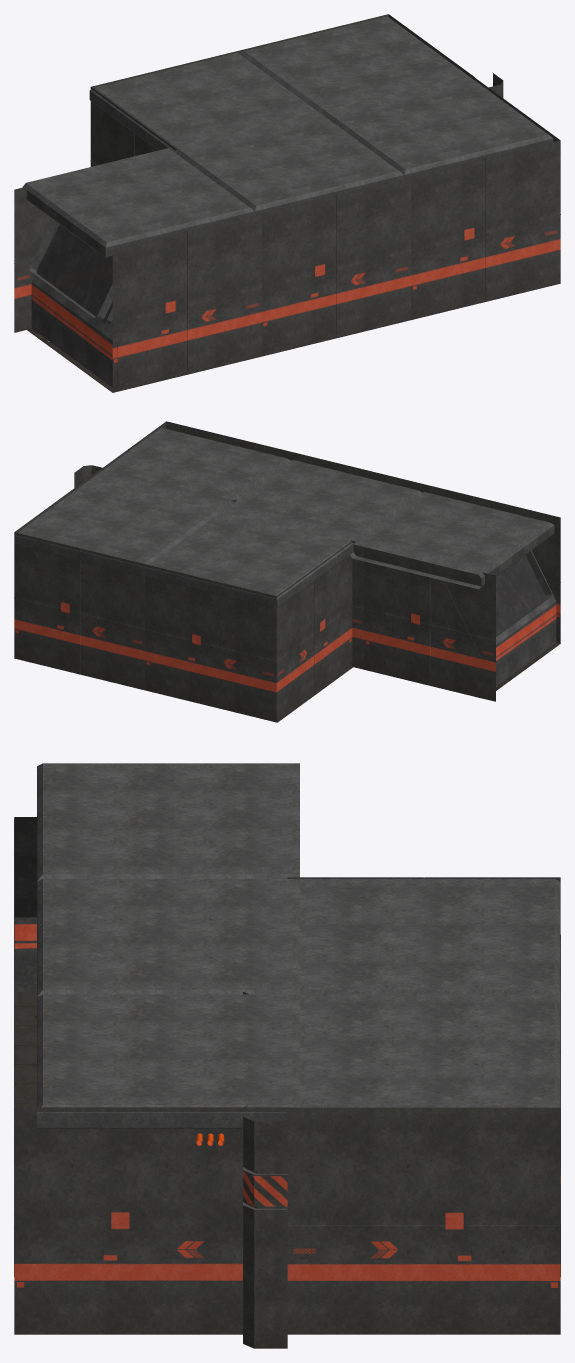
The picture shows the model from 3 angles, top to bottom: view 1: azimuth 30°, elevation 25°; view 2: azimuth 150°, elevation 25°; view 3: azimuth 270°, elevation 25°; orthographic projection. The views are drawn at different scales.
Visible parts, largest first — view 1: PIllar_w_Wall10, PIllar_w_Wall12, PIllar_w_Wall11, RPanel5, RPanel1, RPanel2, RPanel4, RPanel3, Doorway, Window3, PIllar_w_Wall8, PIllar_w_Wall7 (+1 smaller); view 2: PIllar_w_Wall8, PIllar_w_Wall4, PIllar_w_Wall5, RPanel4, RPanel3, RPanel5, RPanel1, RPanel2, PIllar_w_Wall7, Doorway, PIllar_w_Wall12, Window3 (+4 smaller); view 3: PIllar_w_Wall6, PIllar_w_Wall9, RPanel2, RPanel1, RPanel5, RPanel4, RPanel3, PIllar_w_Wall1, Doorway, Floor6.
Part boxes in pixels (x1=…): PIllar_w_Wall10: x1=411, y1=140, x2=560, y2=319; PIllar_w_Wall12: x1=112, y1=213, x2=262, y2=392; PIllar_w_Wall11: x1=262, y1=177, x2=411, y2=355; RPanel5: x1=22, y1=148, x2=254, y2=258; RPanel1: x1=173, y1=111, x2=404, y2=214; RPanel2: x1=322, y1=75, x2=553, y2=178; RPanel4: x1=89, y1=52, x2=317, y2=150; RPanel3: x1=239, y1=16, x2=467, y2=113; Doorway: x1=29, y1=220, x2=160, y2=390; Window3: x1=36, y1=224, x2=112, y2=323; PIllar_w_Wall8: x1=14, y1=186, x2=53, y2=332; PIllar_w_Wall7: x1=91, y1=87, x2=176, y2=166; PIllar_w_Wall8: x1=364, y1=547, x2=495, y2=701; PIllar_w_Wall4: x1=145, y1=564, x2=276, y2=721; PIllar_w_Wall5: x1=14, y1=532, x2=145, y2=689; RPanel4: x1=146, y1=512, x2=350, y2=607; RPanel3: x1=14, y1=479, x2=217, y2=575; RPanel5: x1=350, y1=492, x2=554, y2=589; RPanel1: x1=222, y1=460, x2=422, y2=553; RPanel2: x1=90, y1=427, x2=290, y2=513; PIllar_w_Wall7: x1=276, y1=541, x2=352, y2=721; Doorway: x1=438, y1=550, x2=556, y2=686; PIllar_w_Wall12: x1=429, y1=485, x2=560, y2=643; Window3: x1=496, y1=555, x2=545, y2=634; PIllar_w_Wall6: x1=287, y1=1107, x2=560, y2=1334; PIllar_w_Wall9: x1=14, y1=1107, x2=287, y2=1334; RPanel2: x1=37, y1=994, x2=299, y2=1128; RPanel1: x1=37, y1=879, x2=299, y2=996; RPanel5: x1=37, y1=763, x2=299, y2=881; RPanel4: x1=298, y1=879, x2=560, y2=996; RPanel3: x1=298, y1=994, x2=560, y2=1128; PIllar_w_Wall1: x1=243, y1=1105, x2=287, y2=1348; Doorway: x1=14, y1=817, x2=36, y2=991; Floor6: x1=14, y1=991, x2=36, y2=1103.
Bounding box in the file's own units: 25.64 × 7.33 × 16.01.
Materials: 8 (8 with a texture image).
